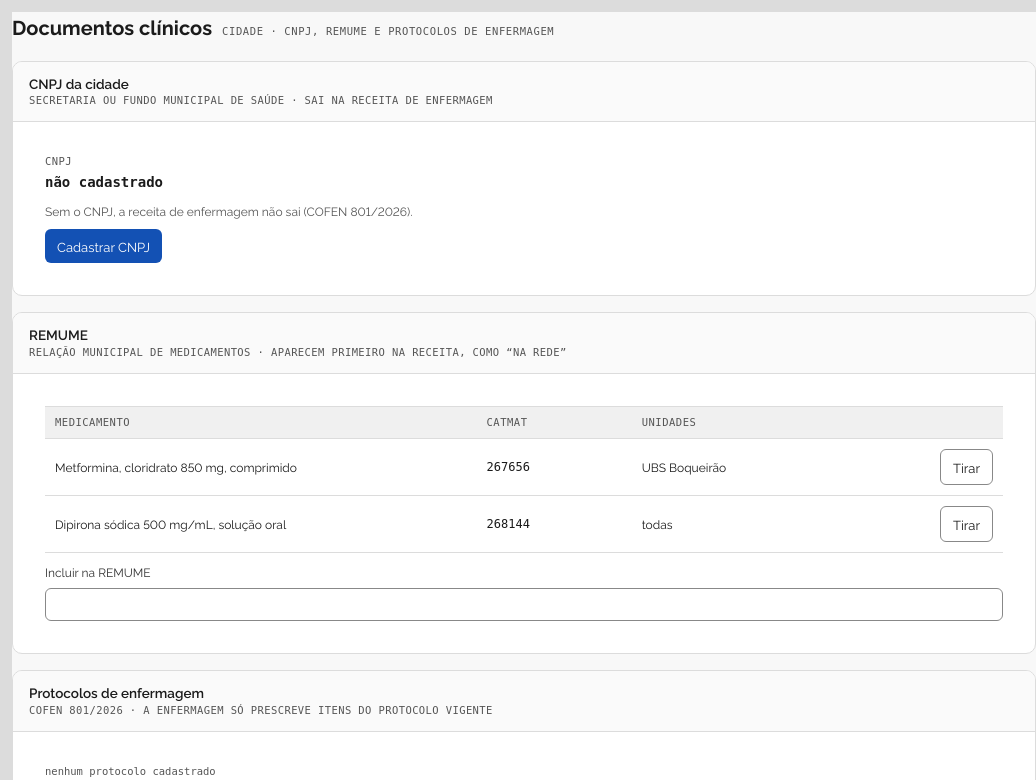
it: ClinicalDocumentsAdmin › REMUME: o controlado aparece liberado na busca e pode entrar
This screenshot has width=1036, height=780.
Step 1. Type "clon" into the field labelled "Incluir na REMUME" → [524, 605], box [45, 588, 1003, 621]
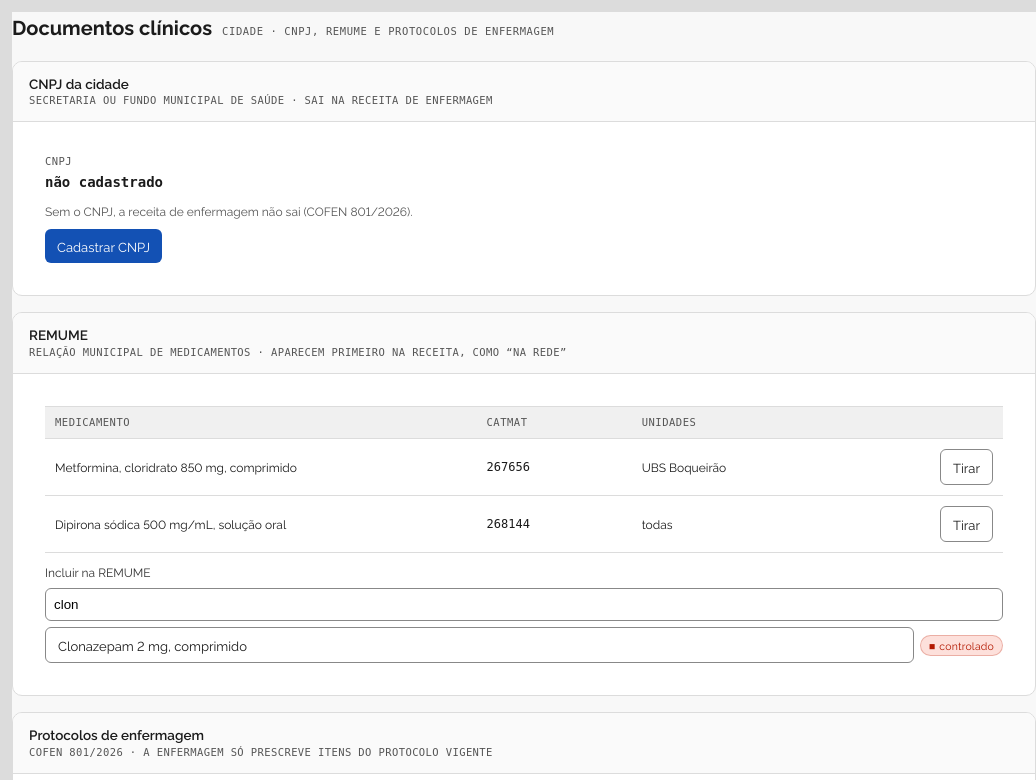
Now the button "Clonazepam 2 mg, comprimido" is enabled, box [45, 627, 914, 663]
